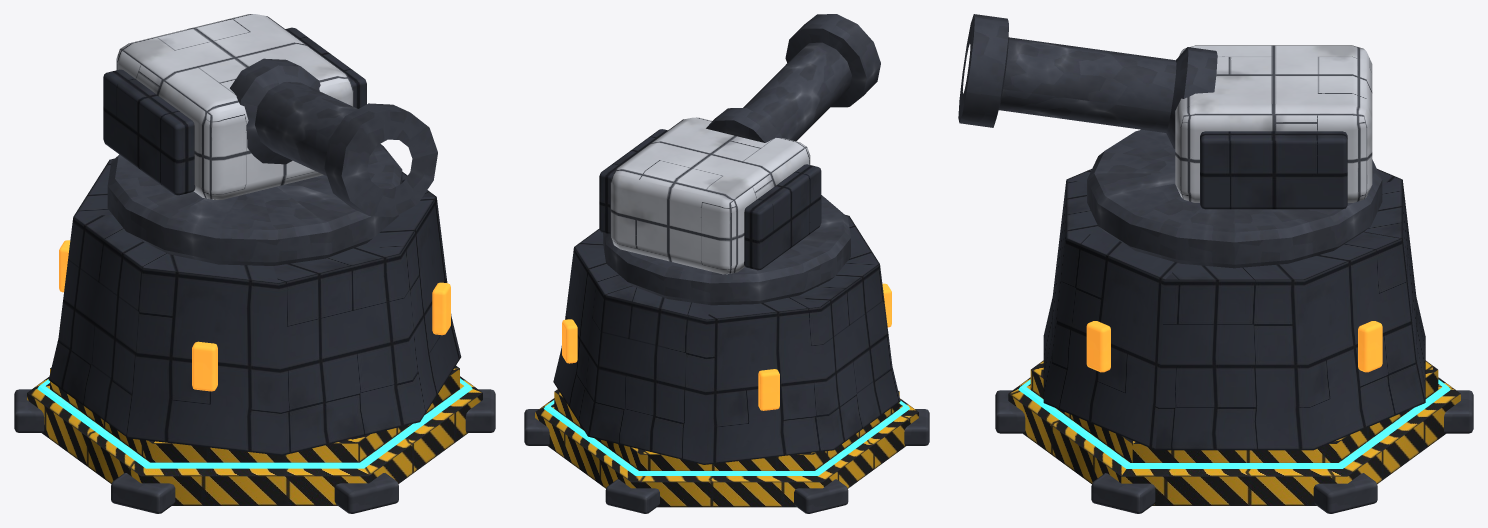
File: sf_cannon.glb
3 views of the same model, side by side, from view 1: azimuth 30°, elevation 25°; view 2: azimuth 150°, elevation 25°; view 3: azimuth 270°, elevation 25° (orthographic). The views are drawn at different scales.
Parts seen in each view (by area): view 1: Base, Turret; view 2: Base, Turret; view 3: Base, Turret.
Part boxes in pixels (x1,y1,x2,y2): Base: (14, 158, 495, 513); Turret: (103, 14, 437, 265); Base: (524, 215, 929, 513); Turret: (599, 14, 880, 305); Base: (995, 169, 1473, 513); Turret: (958, 14, 1382, 268).
Size of the model in its own units: 0.8934 by 0.906 by 1.05.
6 materials, 6 textured.
